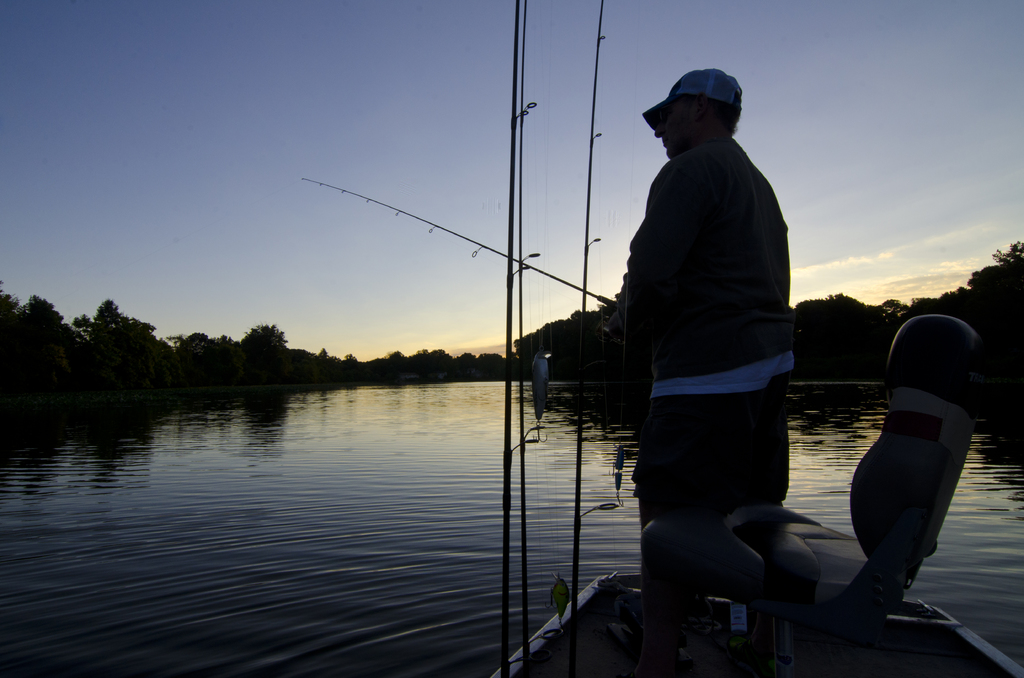Tree: (0, 238, 1024, 452)
